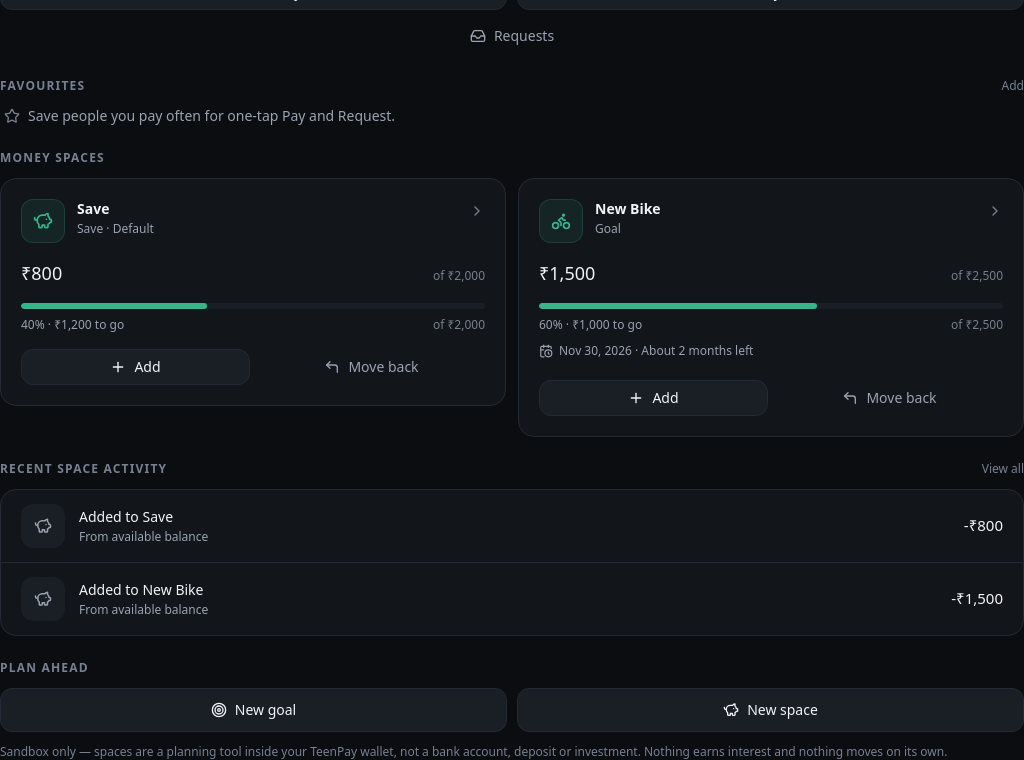
Test: Money page › add and move back explain the limits inline and keep Confirm disabled
The width and height of the screenshot is (1024, 760).
(page scrolled)
Click the button with aria-label "Add to New Bike" at [654, 398], box [539,380,768,416]
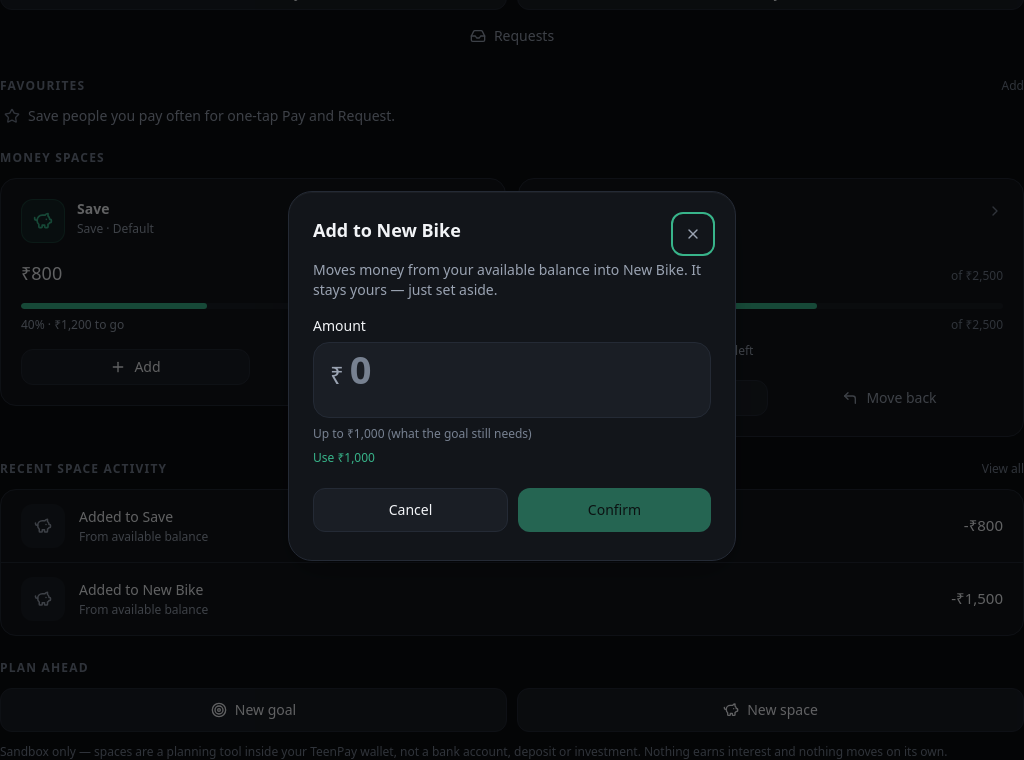
Type "1500" into the field labelled "Amount" at [522, 369], box [350,343,694,395]
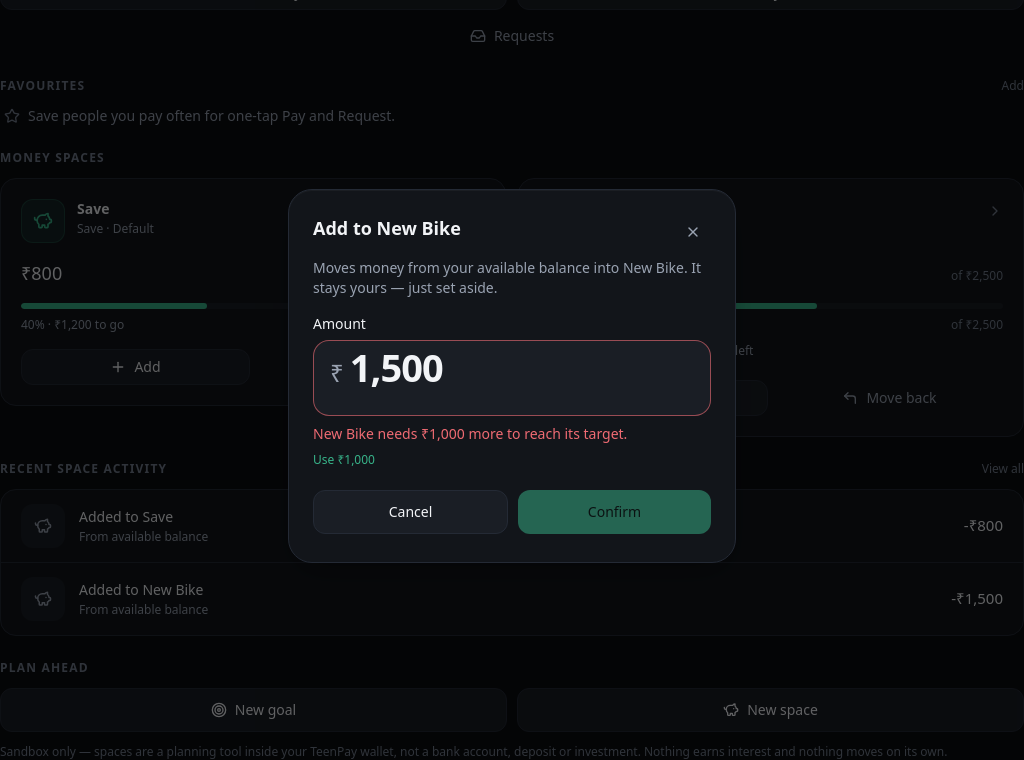
Check: the button "Confirm" is disabled, box [518,490,711,534]
Check: the text "New Bike needs ₹1,000 more to reach its target." is shown, box [313,424,627,443]
Click the button "Cancel" at [410, 512], box [313,490,508,534]
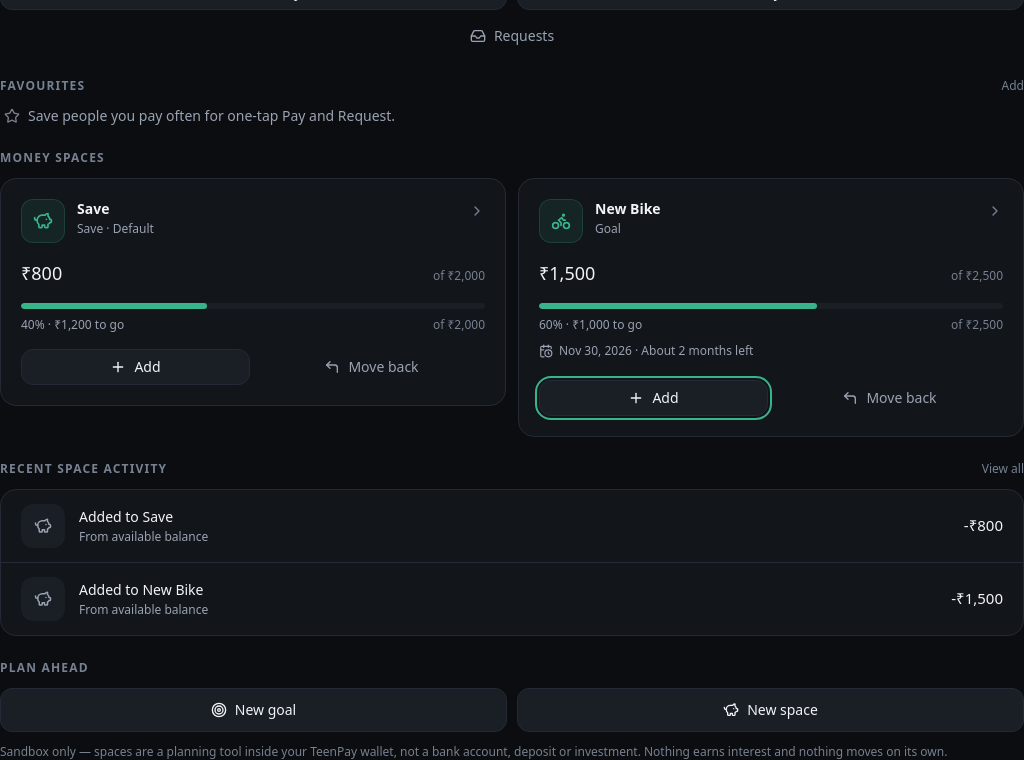
Check: the dialog is gone
Click the button with aria-label "Move back from New Bike" at [890, 398], box [776,380,1003,416]
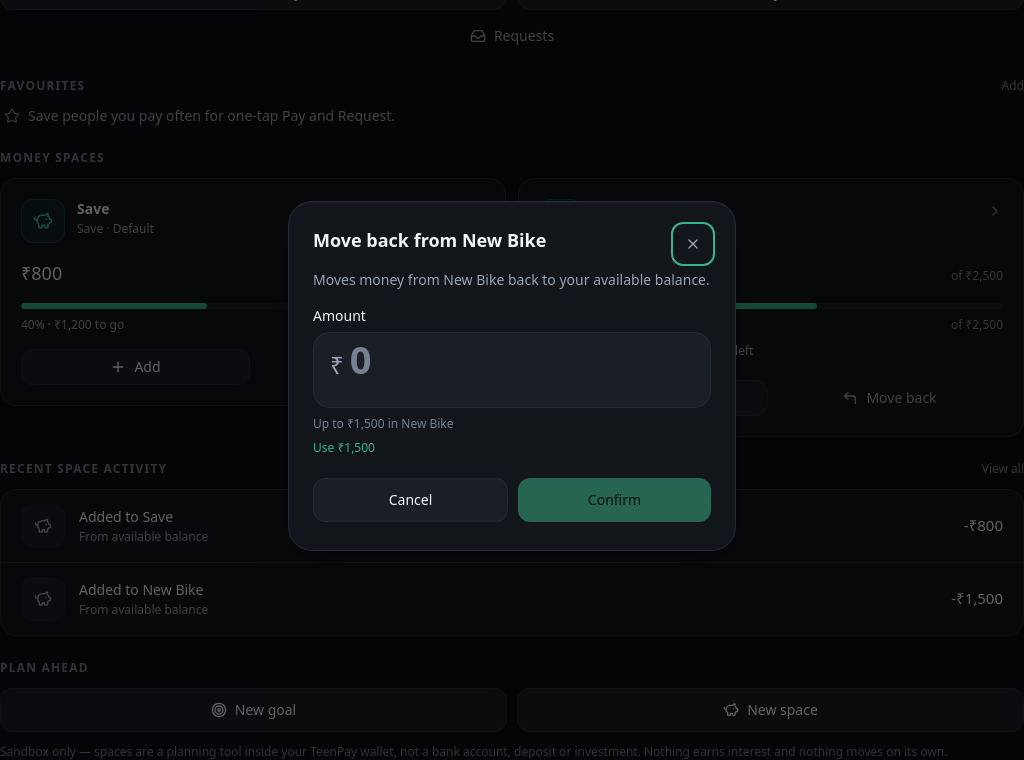
Type "2000" into the field labelled "Amount" at [522, 359], box [350,333,694,385]
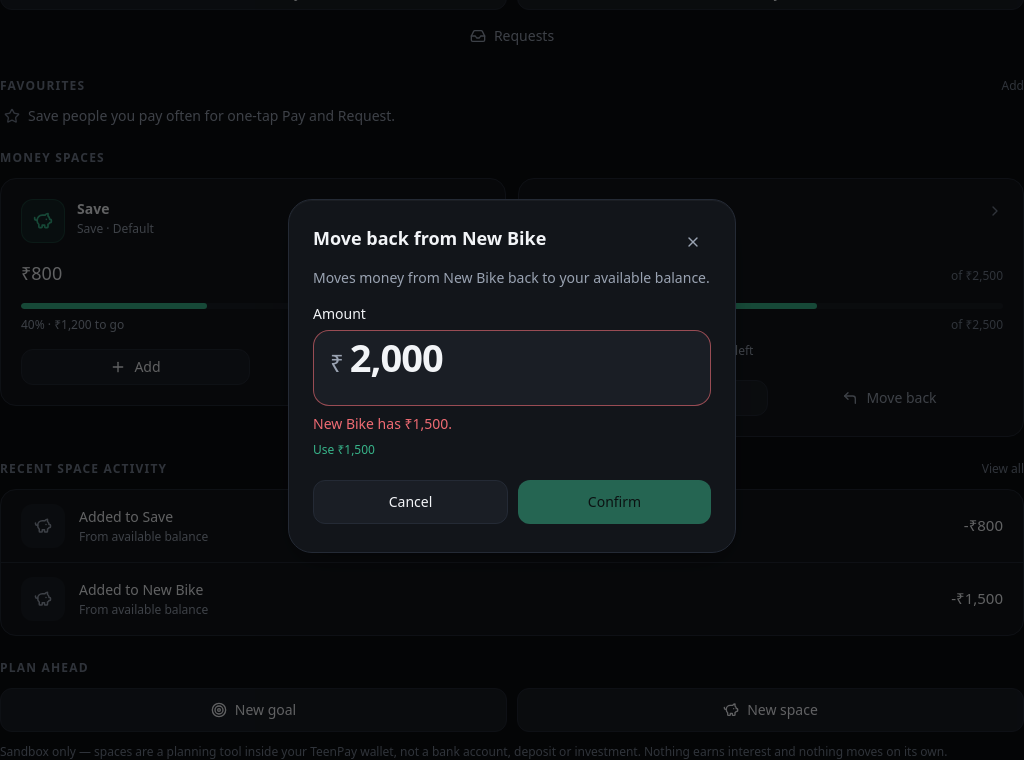
Check: the button "Confirm" is disabled, box [518,480,711,524]
Check: the text "New Bike has ₹1,500." is shown, box [313,414,452,433]
